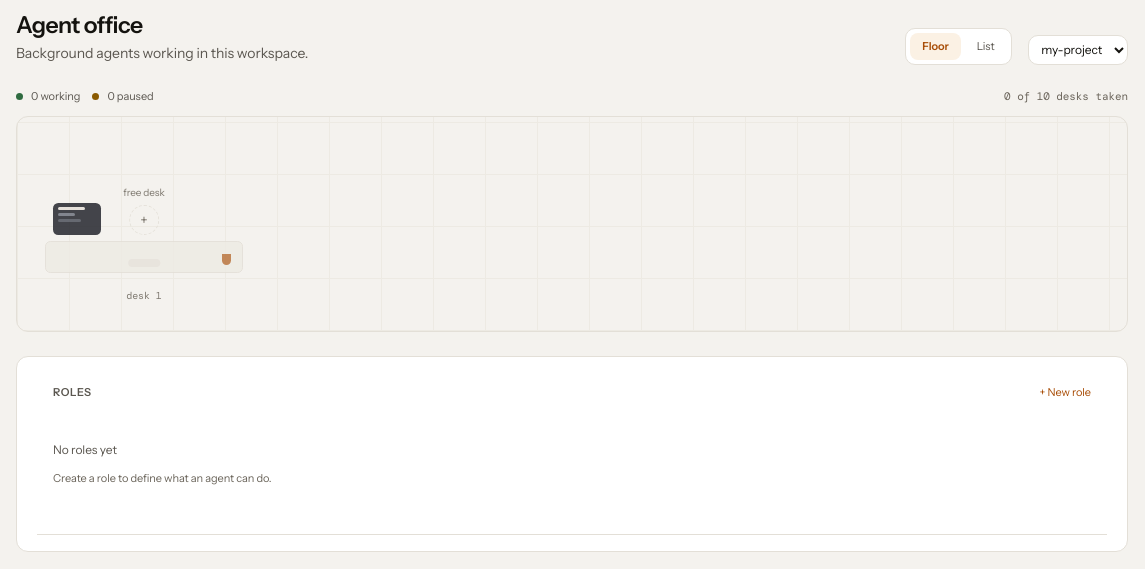
Test: AgentOfficeView › closes stream on unmount
Click the button "list": (986, 47) 965,33 -> 1006,60
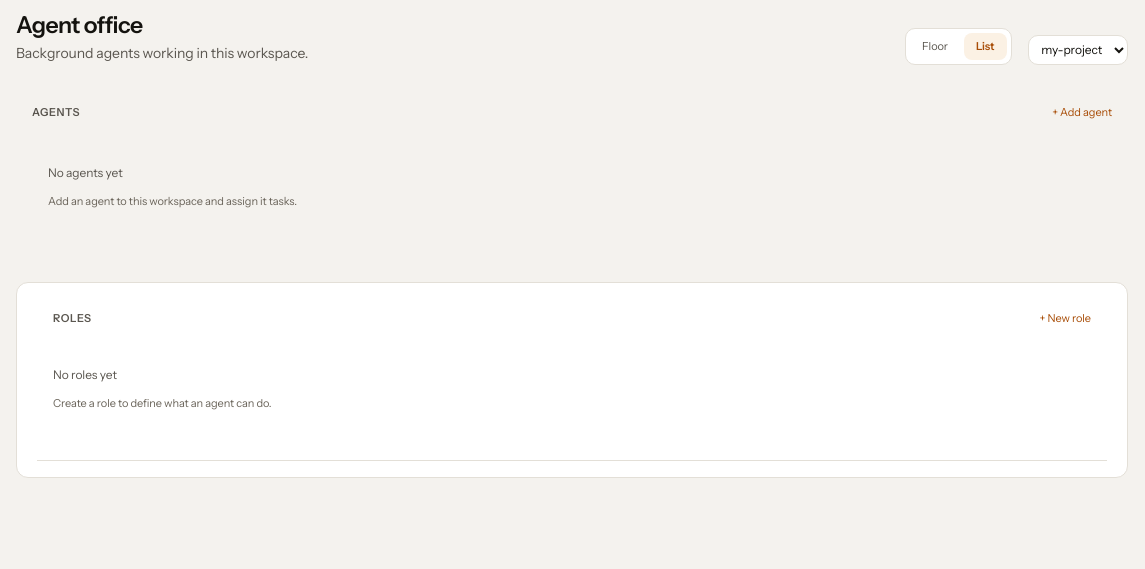
Expected: the text "No agents yet" is shown, 48,164 -> 123,182
